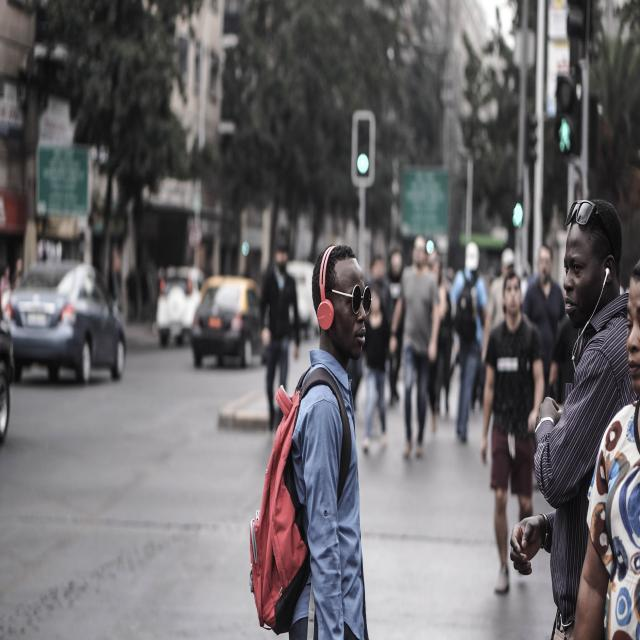Backpacks: (247, 380, 312, 636)
